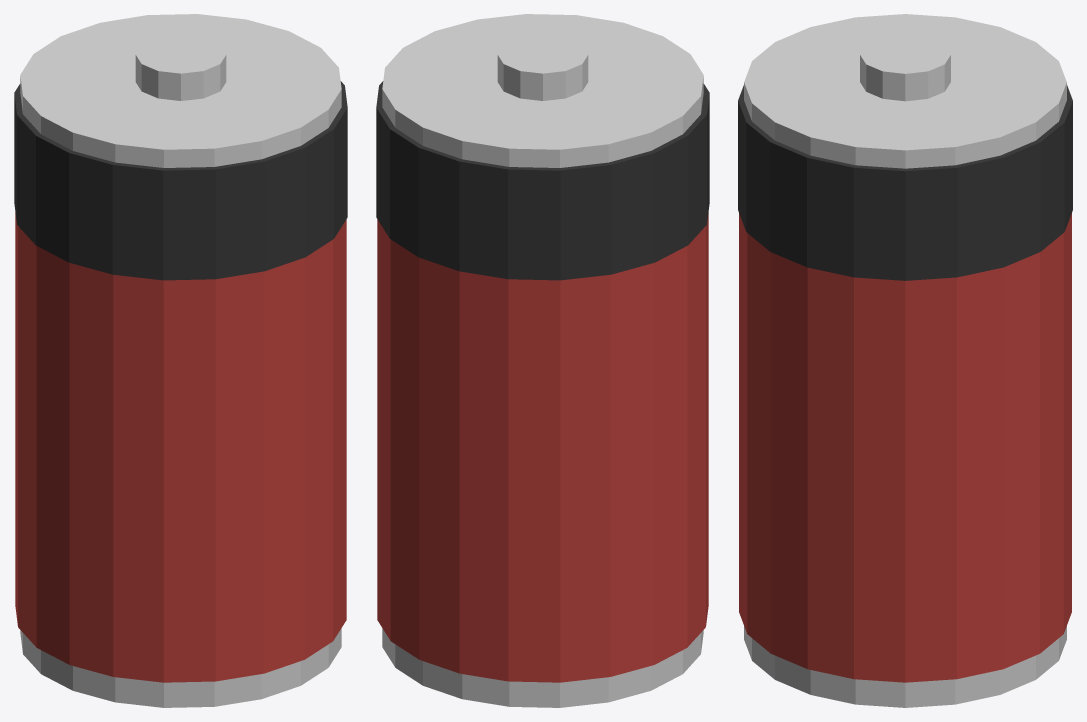
Rendered from battery.glb.
3 renders of one model, left to right at view 1: azimuth 30°, elevation 25°; view 2: azimuth 150°, elevation 25°; view 3: azimuth 270°, elevation 25°, orthographic.
Parts seen in each view (by area): view 1: Battery; view 2: Battery; view 3: Battery.
Part boxes in pixels (x1,y1,x2,y2): Battery: [14, 14, 347, 707]; Battery: [376, 14, 709, 707]; Battery: [738, 14, 1072, 707].
Size of the model in its own units: 0.0332 by 0.064 by 0.0332.
